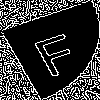F: (24, 24, 86, 78)
